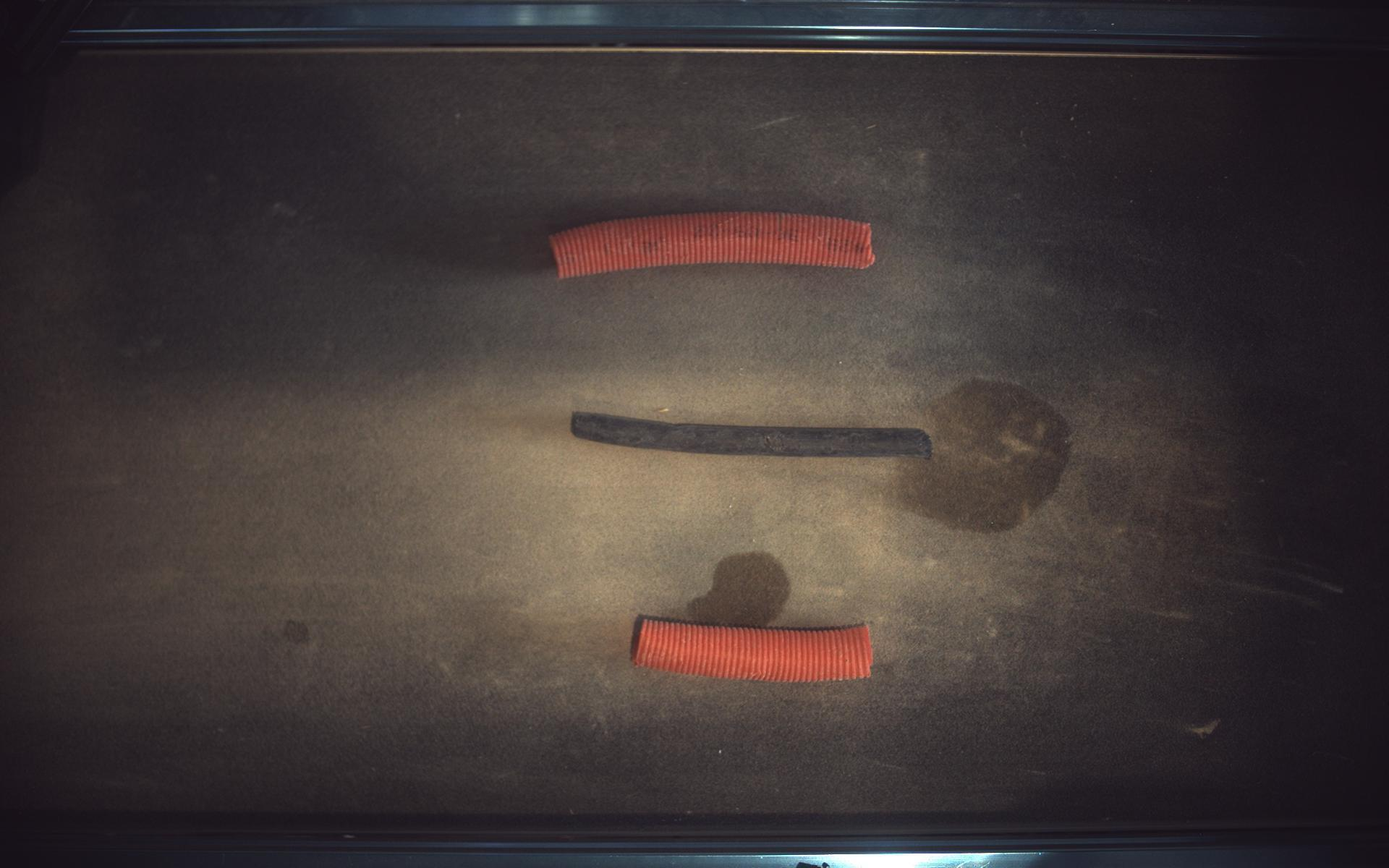pipes: (551, 211, 877, 278), (572, 412, 934, 459), (632, 616, 874, 683)
